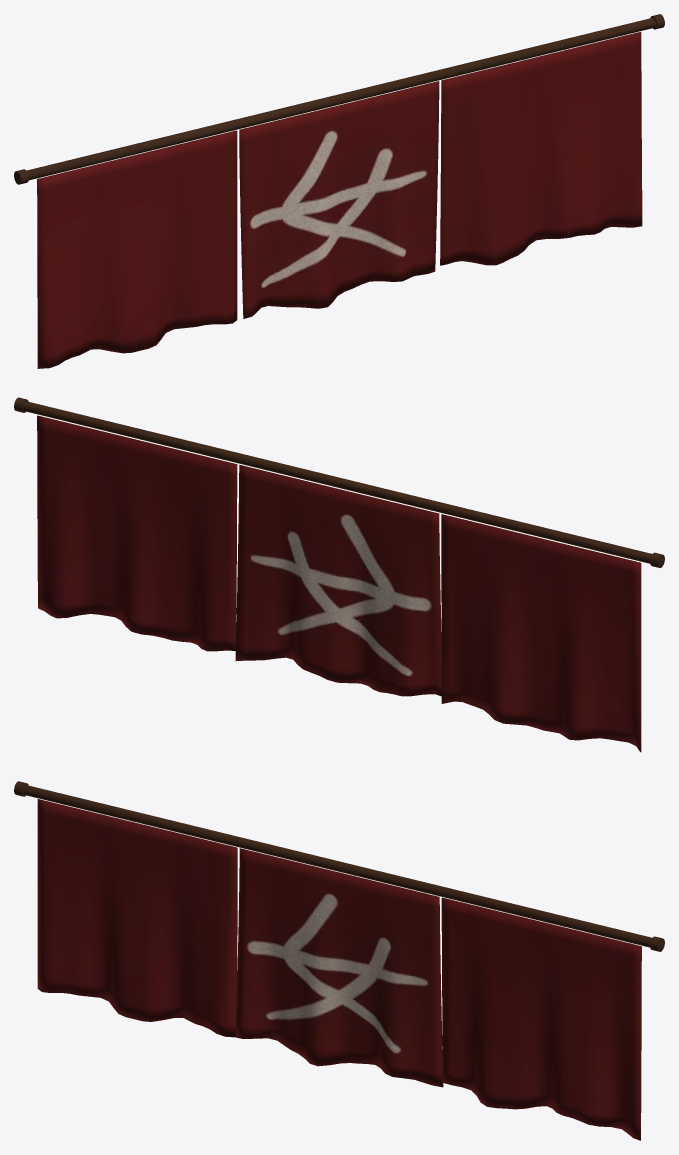
The model's file is noren_women.mobile.glb.
3 views of the same model, one above another, from view 1: azimuth 30°, elevation 25°; view 2: azimuth 150°, elevation 25°; view 3: azimuth 330°, elevation 25° (orthographic).
Parts seen in each view (by area): view 1: Cloth_2, Cloth_0, Cloth_1, Rod; view 2: Cloth_1, Cloth_2, Cloth_0, Rod; view 3: Cloth_1, Cloth_0, Cloth_2, Rod.
Boxes of the visible parts, left/top/right/bottom form: Cloth_2: left=440, top=32, right=642, bottom=265; Cloth_0: left=37, top=130, right=237, bottom=368; Cloth_1: left=239, top=81, right=439, bottom=318; Rod: left=26, top=18, right=655, bottom=180; Cloth_1: left=235, top=465, right=441, bottom=696; Cloth_2: left=37, top=415, right=237, bottom=651; Cloth_0: left=441, top=514, right=641, bottom=752; Rod: left=23, top=401, right=652, bottom=563; Cloth_1: left=235, top=848, right=443, bottom=1087; Cloth_0: left=37, top=799, right=237, bottom=1037; Cloth_2: left=441, top=897, right=641, bottom=1140; Rod: left=23, top=785, right=652, bottom=947.
Size of the model in its own units: 3.2 by 0.9801 by 0.0943.
2 materials, 2 textured.
